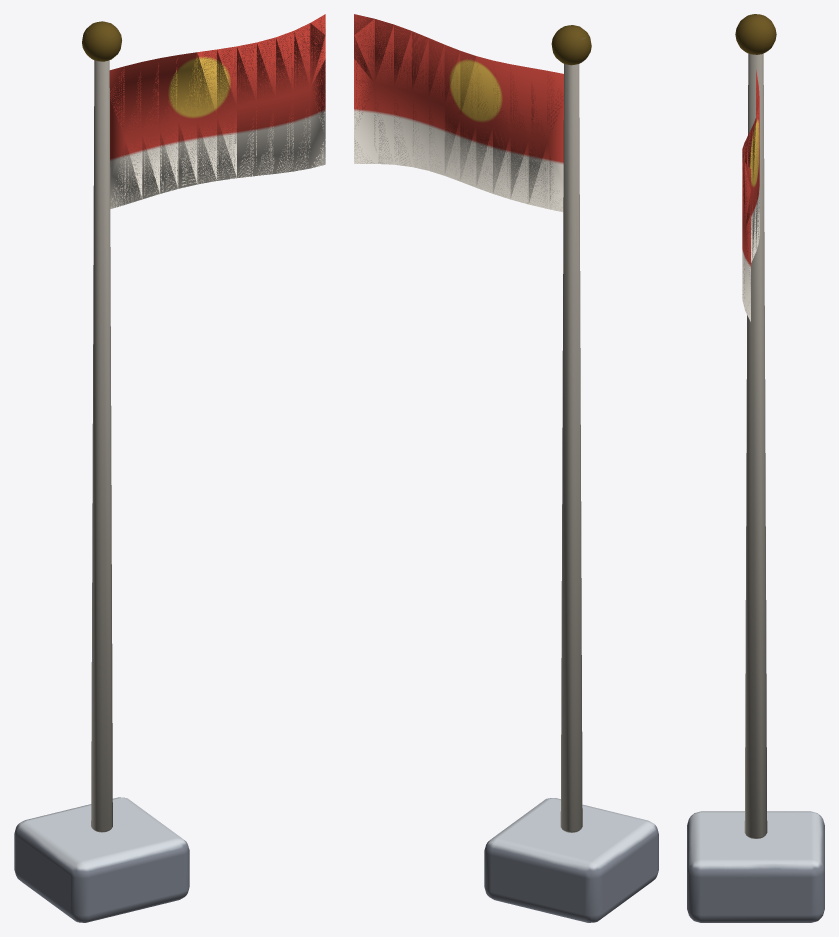
The model's file is flag_pole.glb.
3 renders of one model, left to right at view 1: azimuth 30°, elevation 25°; view 2: azimuth 150°, elevation 25°; view 3: azimuth 270°, elevation 25°, orthographic. The views are drawn at different scales.
Parts seen in each view (by area): view 1: ball; view 2: ball; view 3: ball.
Part boxes in pixels (left/top/right/bottom): ball: left=14, top=14, right=325, bottom=922; ball: left=354, top=14, right=658, bottom=922; ball: left=687, top=14, right=824, bottom=922.
Bounding box in the file's own units: 1.43 × 4.24 × 0.6.
Materials: 1 (1 with a texture image).
